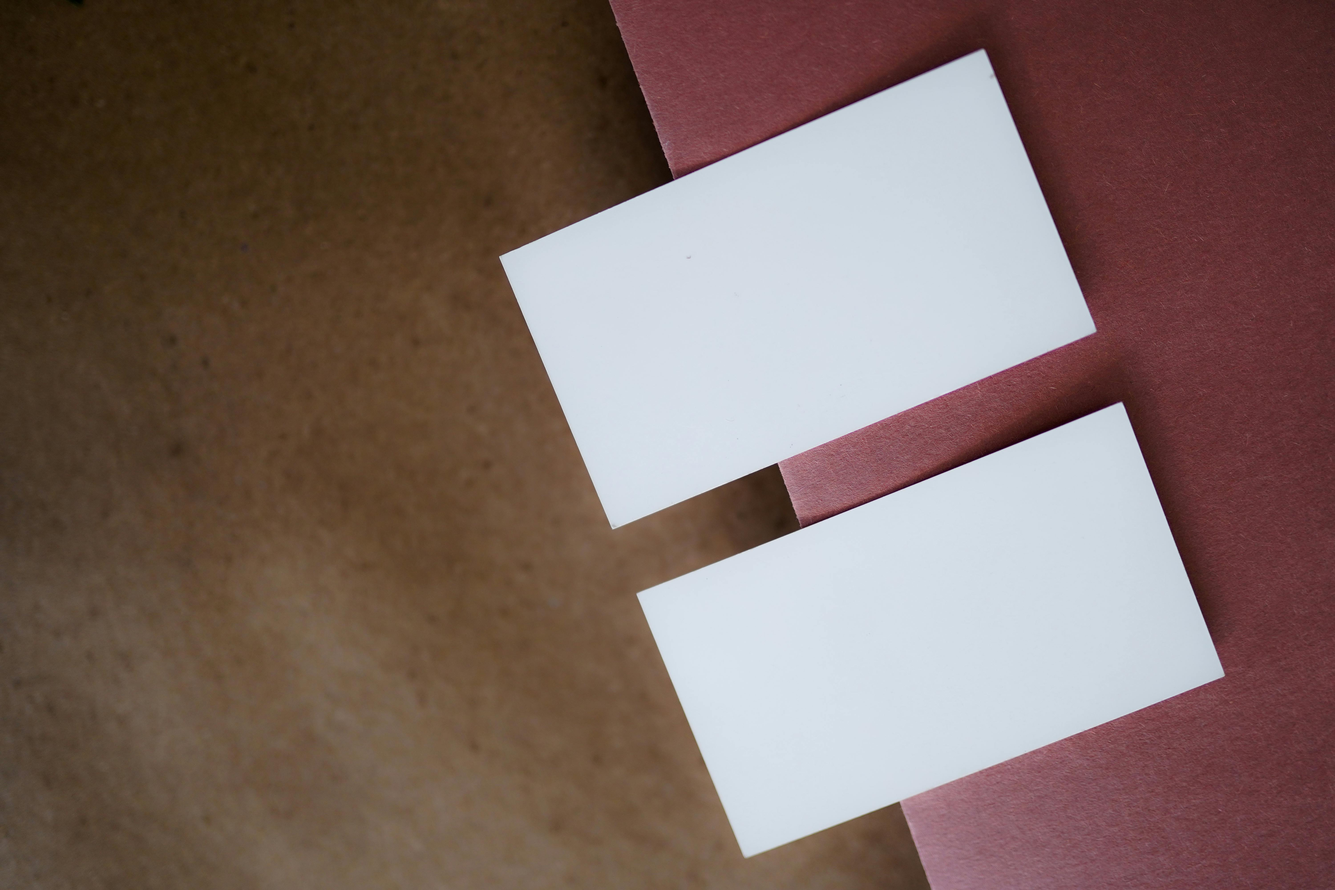paper: (499, 49, 1096, 530), (635, 402, 1227, 859)
